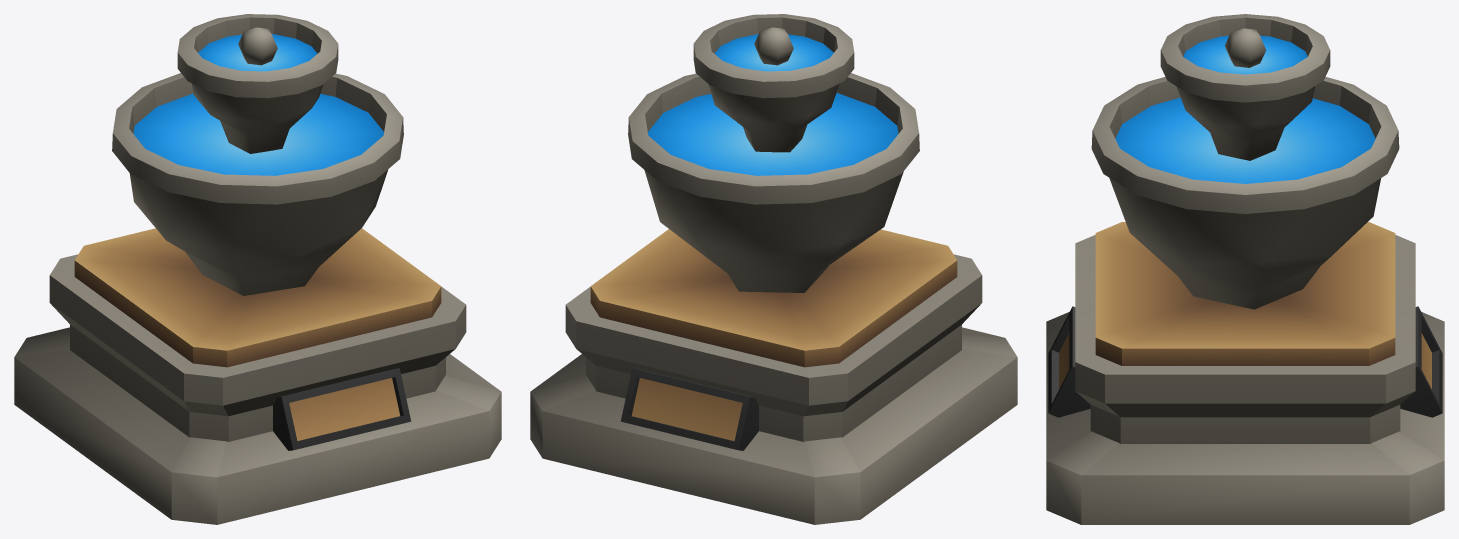
File: tc_fountain_1a_indoor.glb
The picture shows the model from 3 angles, left to right: view 1: azimuth 30°, elevation 25°; view 2: azimuth 150°, elevation 25°; view 3: azimuth 270°, elevation 25°; orthographic projection. The views are drawn at different scales.
Visible parts, largest first — view 1: Fountain_1A; view 2: Fountain_1A; view 3: Fountain_1A.
Part boxes in pixels (box(x1,y1,x2,y2)): Fountain_1A: box(14, 14, 501, 524); Fountain_1A: box(530, 14, 1017, 524); Fountain_1A: box(1046, 14, 1444, 524).
Size of the model in its own units: 1.58 by 1.8 by 1.58.
Materials: 1 (1 with a texture image).
